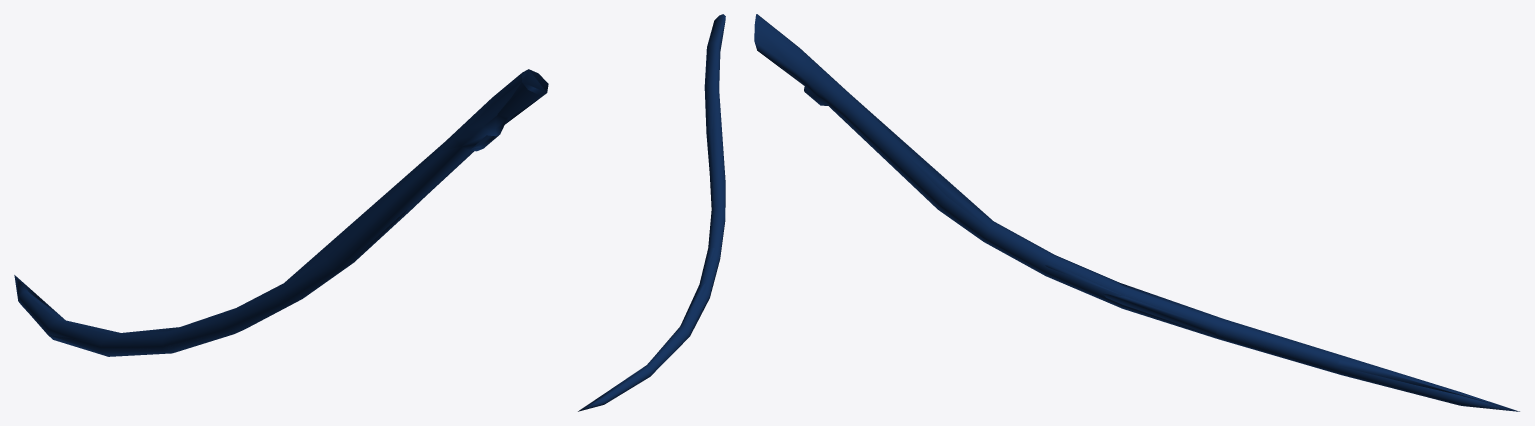
File: L vena profunda femoris.fbx
The picture shows the model from 3 angles, left to right: view 1: azimuth 30°, elevation 25°; view 2: azimuth 150°, elevation 25°; view 3: azimuth 270°, elevation 25°; orthographic projection. The views are drawn at different scales.
Visible parts, largest first — view 1: L vena profunda femoris, L vena profunda femoris low; view 2: L vena profunda femoris, L vena profunda femoris low; view 3: L vena profunda femoris, L vena profunda femoris low.
Boxes of the visible parts, <box> form: L vena profunda femoris: <box>14,69,548,356</box>; L vena profunda femoris low: <box>15,69,546,352</box>; L vena profunda femoris: <box>578,14,725,411</box>; L vena profunda femoris low: <box>579,30,725,410</box>; L vena profunda femoris: <box>754,14,1519,411</box>; L vena profunda femoris low: <box>761,49,1514,410</box>.
Bounding box in the file's own units: 3.42 × 7.81 × 11.99.
